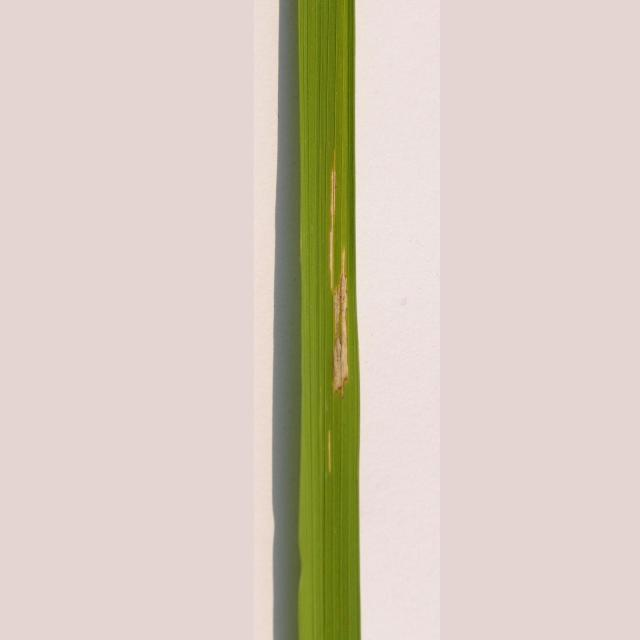leaf blight: (314, 152, 351, 476)
